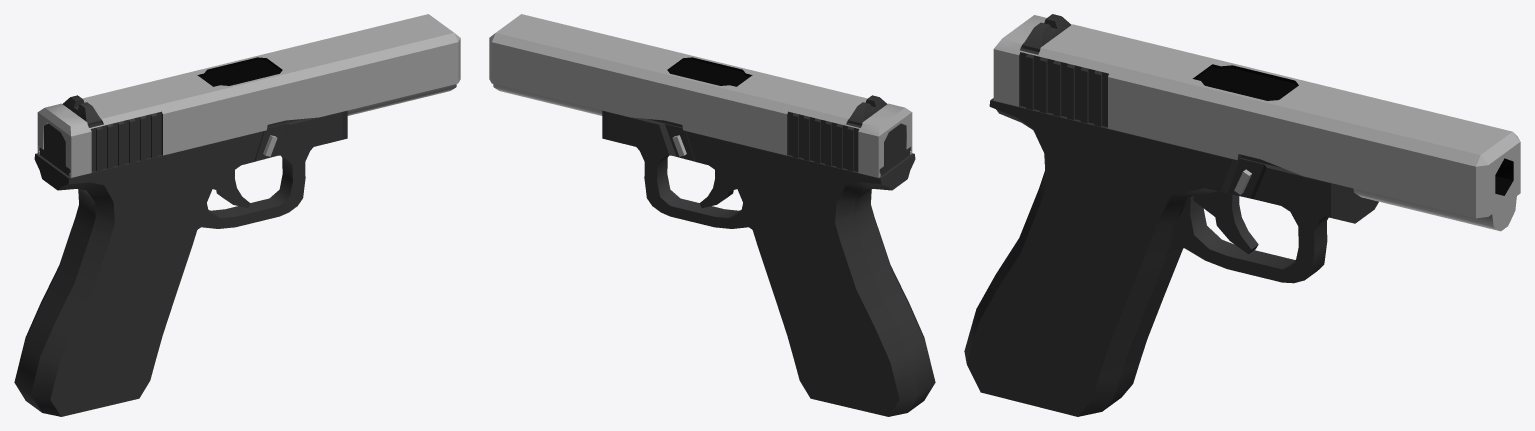
File: Glock.fbx
The picture shows the model from 3 angles, left to right: view 1: azimuth 30°, elevation 25°; view 2: azimuth 150°, elevation 25°; view 3: azimuth 330°, elevation 25°; orthographic projection. The views are drawn at different scales.
Visible parts, largest first — view 1: Cube.002; view 2: Cube.002; view 3: Cube.002.
Part boxes in pixels (x1,y1,x2,y2): Cube.002: (14, 14, 460, 416); Cube.002: (489, 14, 935, 416); Cube.002: (964, 14, 1520, 416).
Bounding box in the file's own units: 804 × 533 × 114.
1 material, 1 textured.
